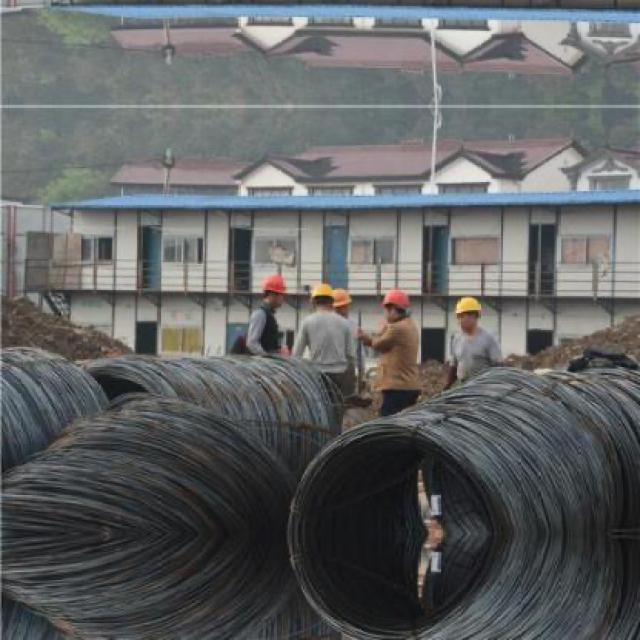helmet: (452, 292, 485, 334), (377, 288, 411, 324), (258, 273, 291, 310), (310, 280, 338, 314), (328, 288, 354, 321)
